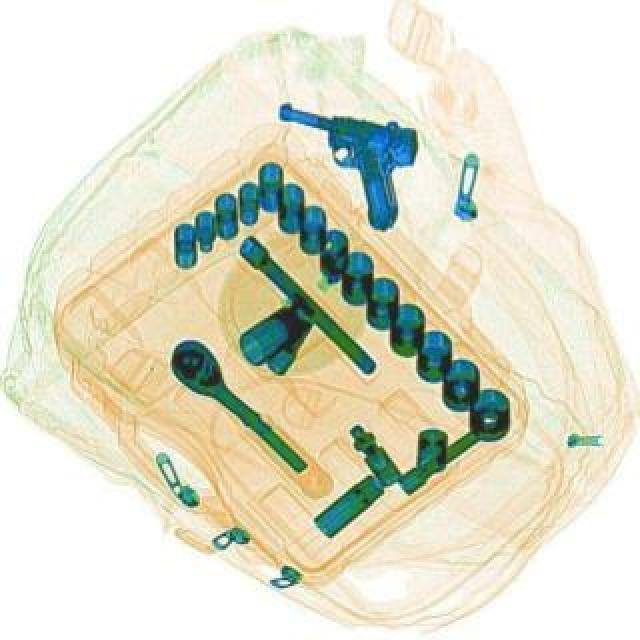gun: (254, 92, 428, 234)
